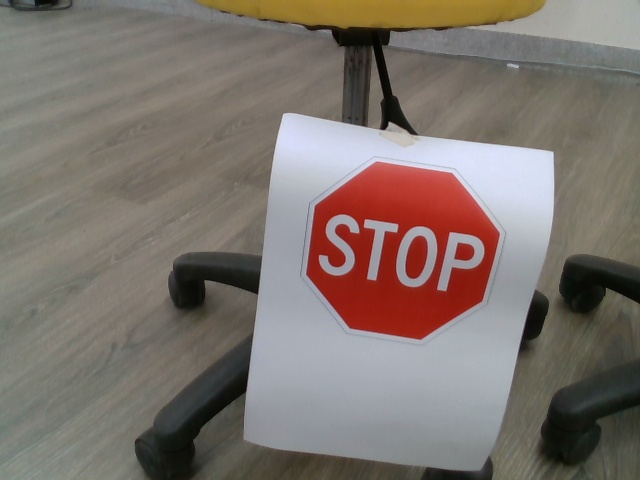stop: (297, 154, 507, 344)
